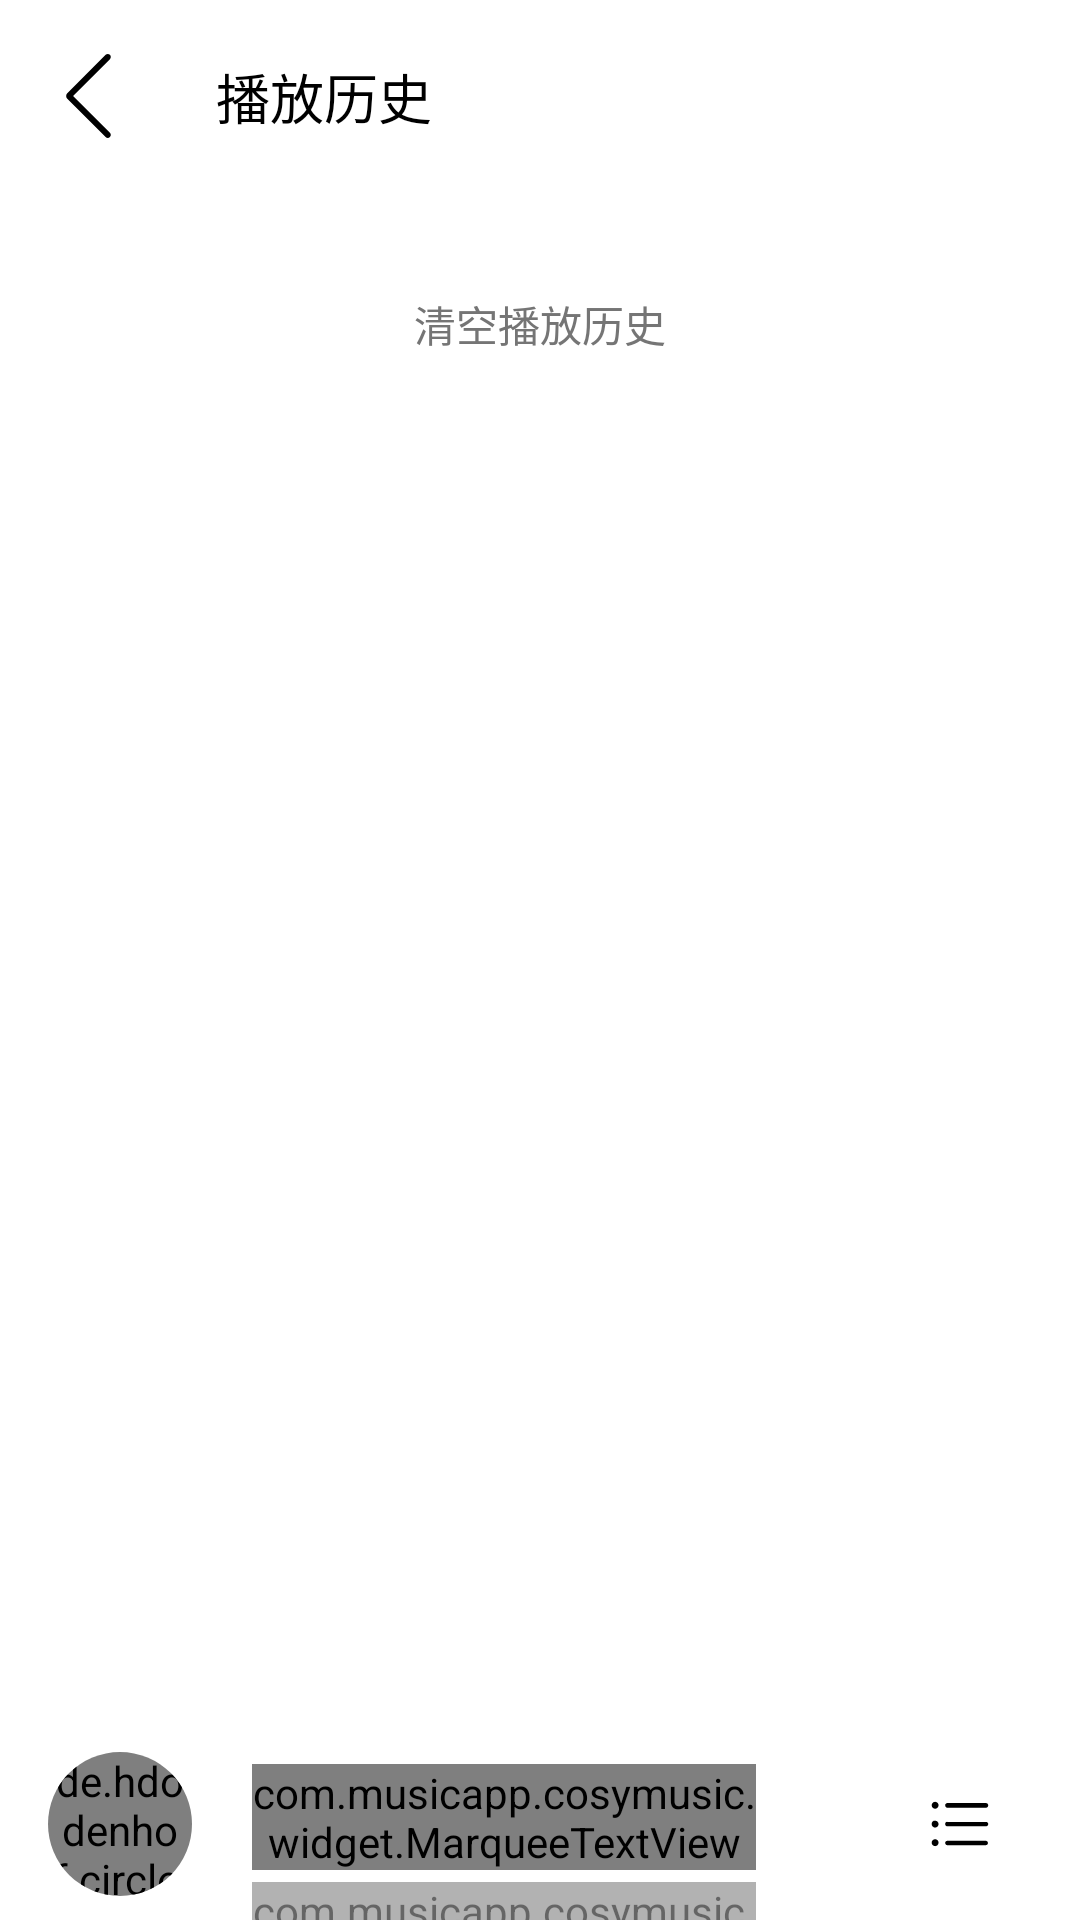

Named icons in this screenshot (1080 x 1920) and their centers, [x,y]:
back: [88,96]
player menu: [960,1823]
